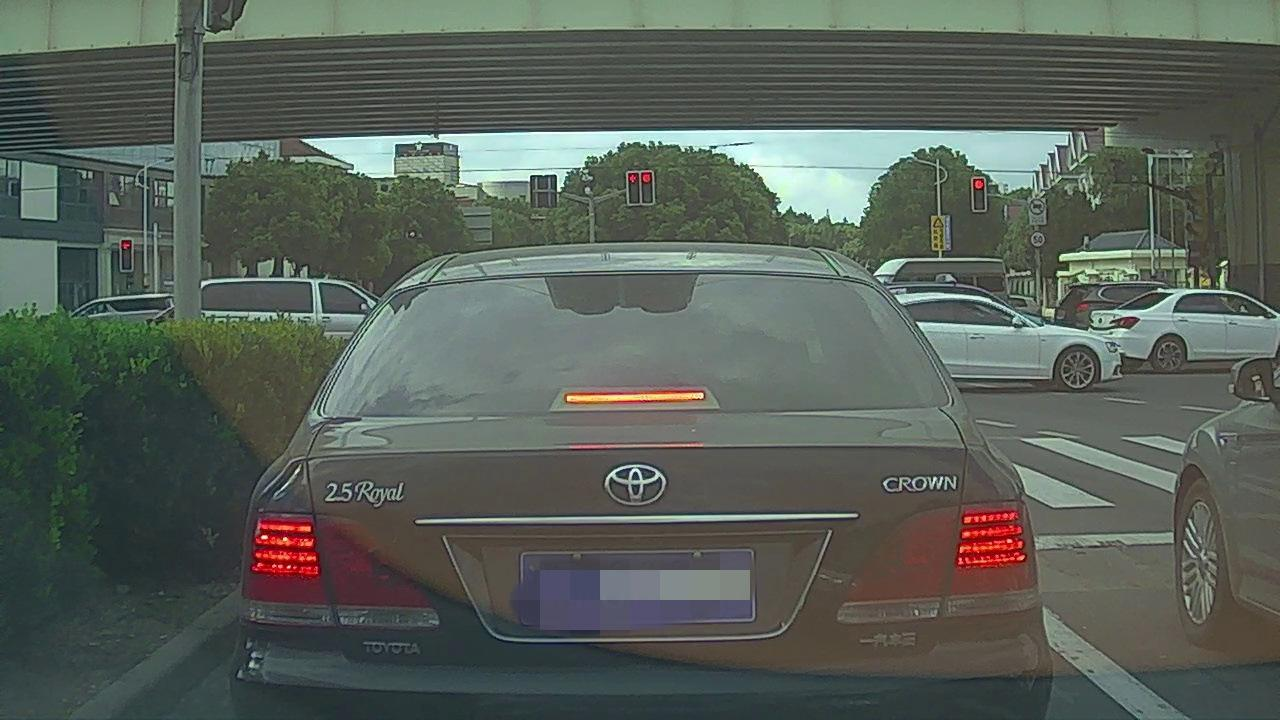traffic_light: (625, 170, 640, 205), (971, 177, 985, 211), (640, 170, 653, 205), (122, 238, 133, 270)
